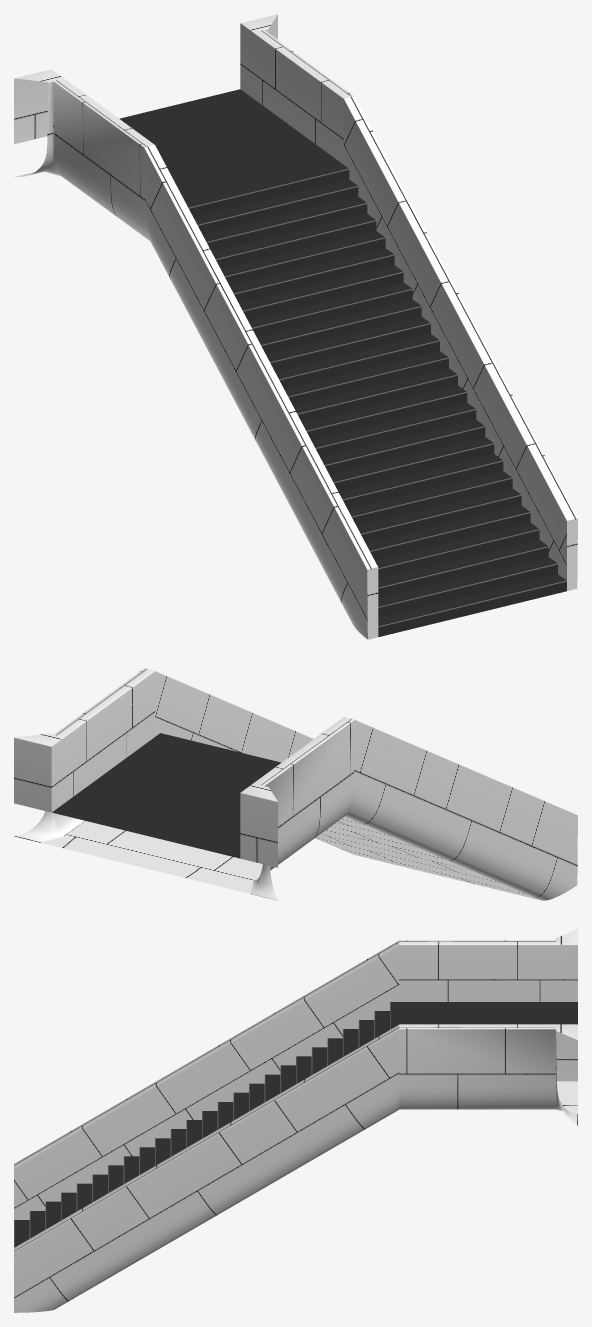
File: Stairs03_350x900cm.FBX
The picture shows the model from 3 angles, top to bottom: view 1: azimuth 30°, elevation 25°; view 2: azimuth 150°, elevation 25°; view 3: azimuth 270°, elevation 25°; orthographic projection. The views are drawn at different scales.
Visible parts, largest first — view 1: Stairs, Parapet; view 2: Parapet, Stairs; view 3: Parapet, Stairs.
Boxes of the visible parts, <box> form: Stairs: <box>119,89,566,637</box>; Parapet: <box>14,14,577,639</box>; Parapet: <box>14,668,577,900</box>; Stairs: <box>52,733,281,858</box>; Parapet: <box>14,929,577,1312</box>; Stairs: <box>14,1002,577,1247</box>.
Bounding box in the file's own units: 420 × 500 × 900.
